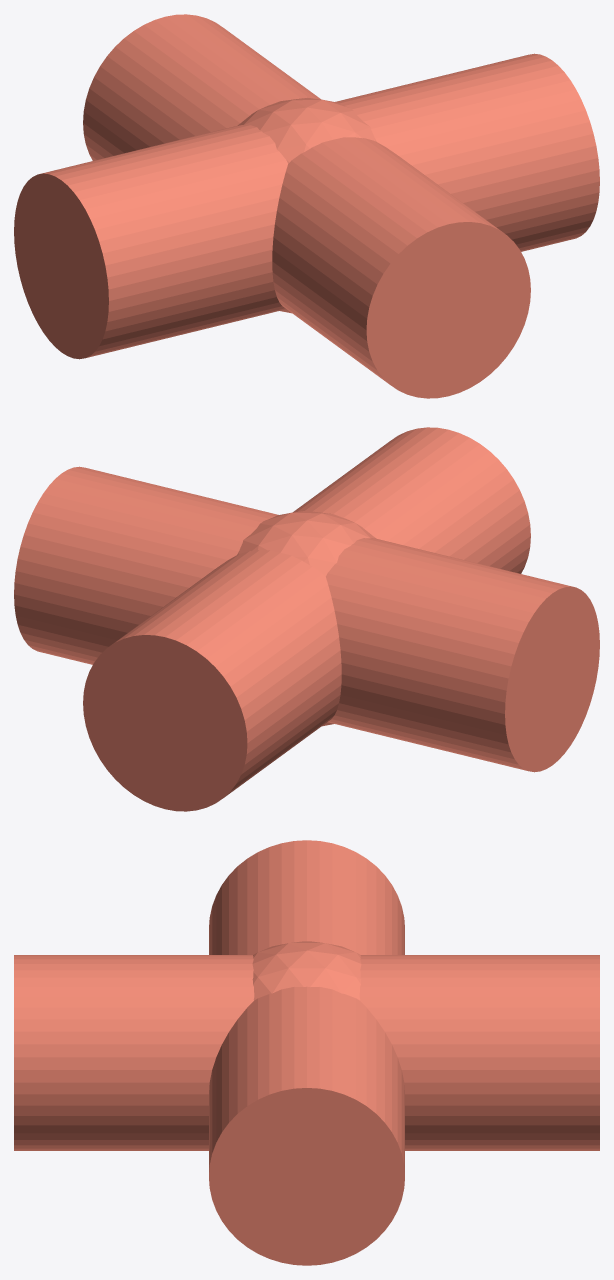
Rendered from SM_Fitting_Cross_Equal_2in.glb.
The picture shows the model from 3 angles, top to bottom: view 1: azimuth 30°, elevation 25°; view 2: azimuth 150°, elevation 25°; view 3: azimuth 270°, elevation 25°; orthographic projection. The views are drawn at different scales.
Visible parts, largest first — view 1: world; view 2: world; view 3: world.
Boxes of the visible parts, box(x1,y1,x2,y2) form: world: box(14, 14, 599, 398); world: box(14, 427, 599, 811); world: box(14, 840, 599, 1265).
Size of the model in its own units: 0.18 by 0.0693 by 0.18.
